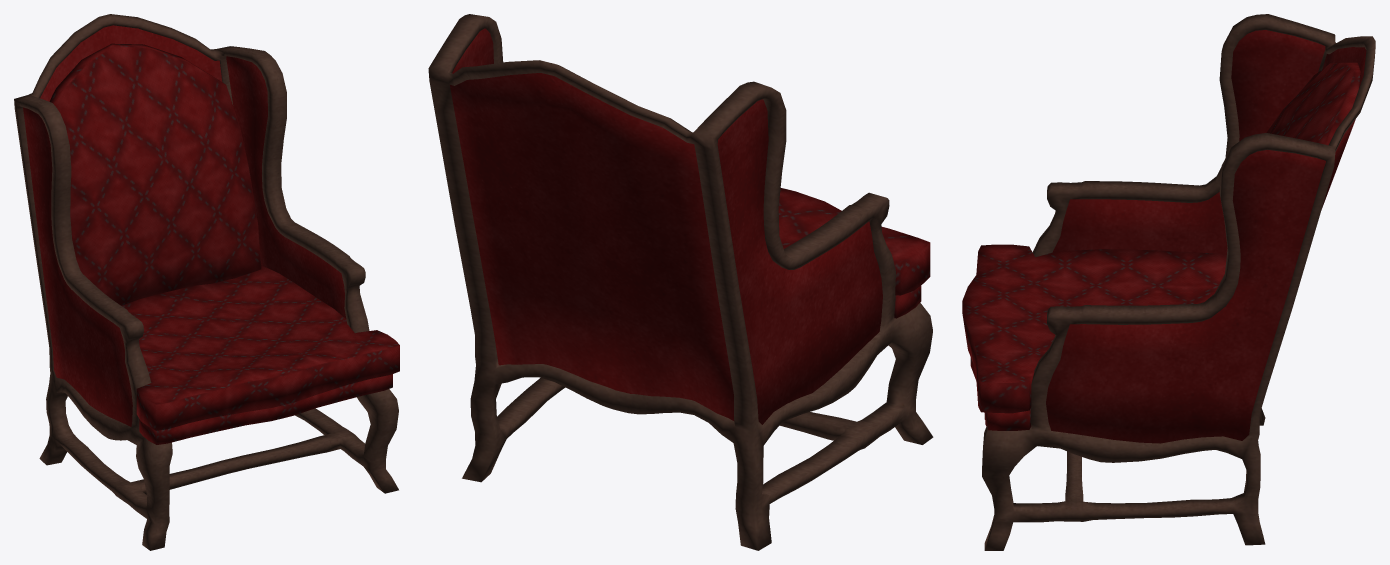
The model's file is obj_old_sofa_09ee59.glb.
3 views of the same model, side by side, from view 1: azimuth 30°, elevation 25°; view 2: azimuth 150°, elevation 25°; view 3: azimuth 270°, elevation 25° (orthographic). The views are drawn at different scales.
Visible parts, largest first — view 1: obj_old_sofa_09ee59; view 2: obj_old_sofa_09ee59; view 3: obj_old_sofa_09ee59.
Part boxes in pixels (x1,y1,x2,y2): obj_old_sofa_09ee59: [14, 14, 399, 550]; obj_old_sofa_09ee59: [428, 14, 933, 550]; obj_old_sofa_09ee59: [962, 14, 1375, 550].
Size of the model in its own units: 0.5834 by 0.85 by 0.7286.
Materials: 3 (3 with a texture image).
